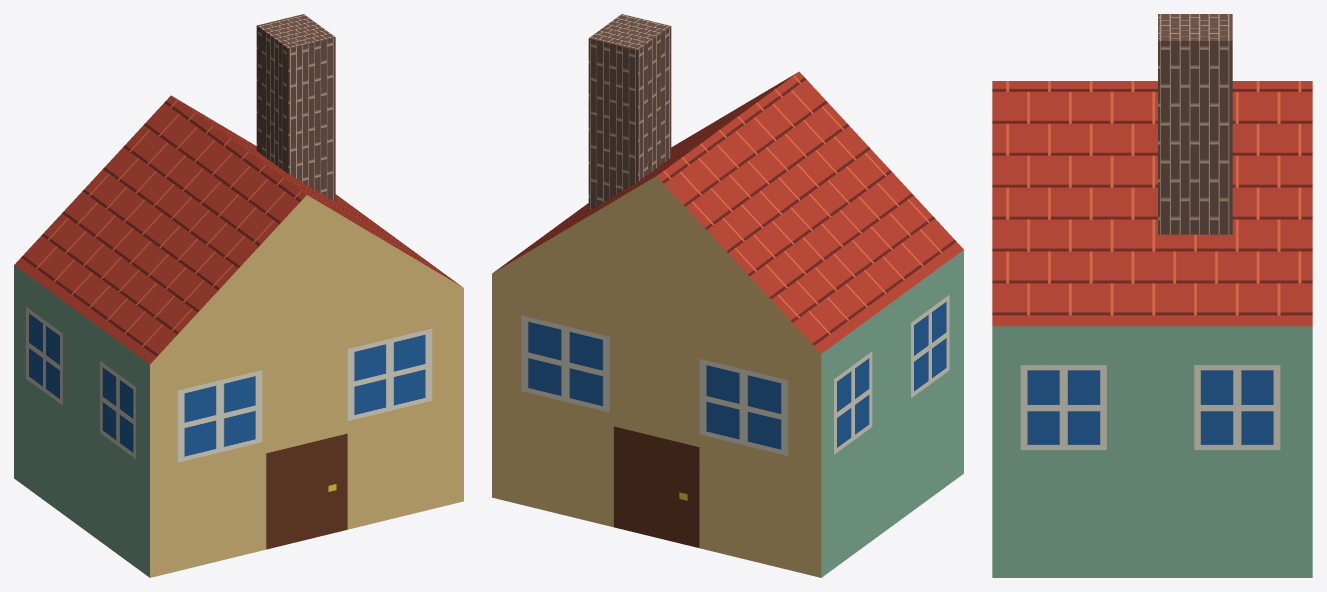
Rendered from house.obj.
3 renders of one model, left to right at view 1: azimuth 30°, elevation 25°; view 2: azimuth 150°, elevation 25°; view 3: azimuth 270°, elevation 25°, orthographic. The views are drawn at different scales.
Visible parts, largest first — view 1: House, Chimney; view 2: House, Chimney; view 3: House, Chimney.
Part boxes in pixels (bbox=[...]): House: bbox=[14, 95, 463, 577]; Chimney: bbox=[256, 14, 335, 201]; House: bbox=[492, 71, 963, 577]; Chimney: bbox=[588, 14, 671, 210]; House: bbox=[992, 81, 1312, 577]; Chimney: bbox=[1158, 14, 1232, 234].
Bounding box in the file's own units: 2 × 2.6 × 1.5.
1 material, 1 textured.
